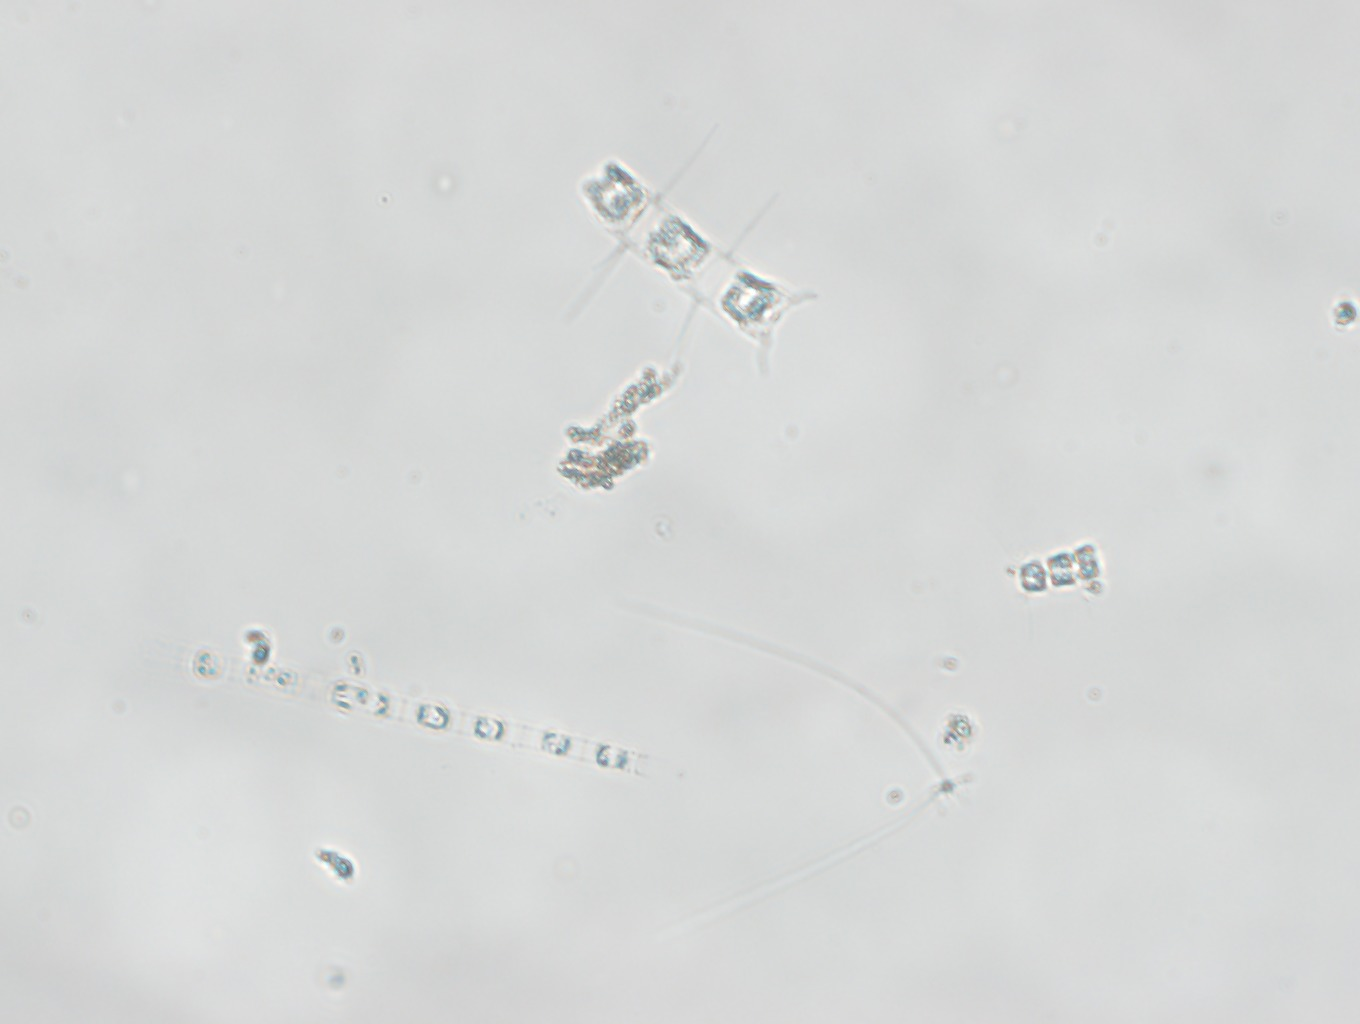chaetoceros: (522, 128, 828, 389)
skeletonema: (177, 627, 669, 790), (1004, 537, 1107, 601)
